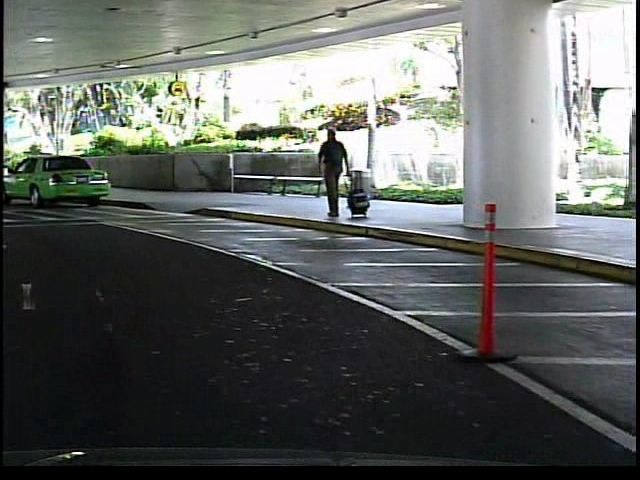person: (309, 123, 351, 227)
